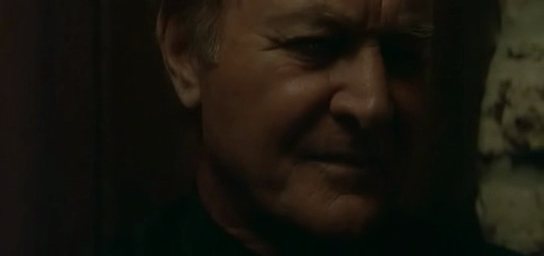ecu: (1, 1, 544, 256)
face: (220, 1, 438, 256)
person: (154, 1, 507, 256)
